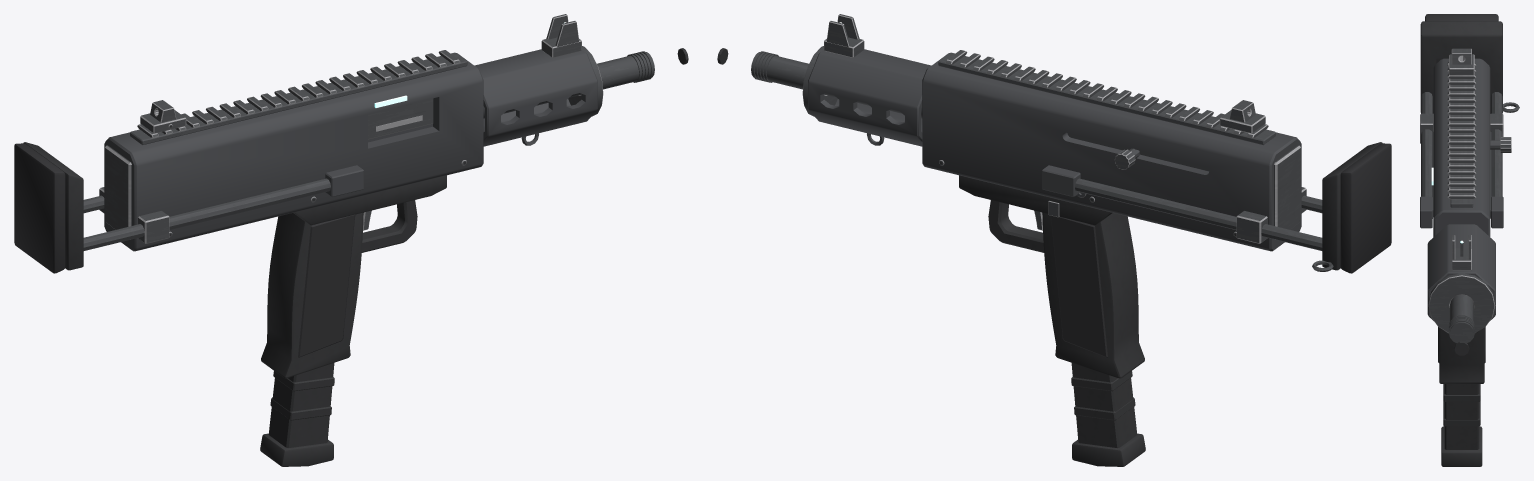
Rendered from w_uzi.glb.
3 renders of one model, left to right at view 1: azimuth 30°, elevation 25°; view 2: azimuth 150°, elevation 25°; view 3: azimuth 270°, elevation 25°, orthographic. The views are drawn at different scales.
Parts seen in each view (by area): view 1: W_uzi; view 2: W_uzi; view 3: W_uzi.
Part boxes in pixels (left/top/right/bottom): W_uzi: left=14, top=14, right=688, bottom=466; W_uzi: left=717, top=14, right=1391, bottom=466; W_uzi: left=1420, top=14, right=1519, bottom=466.
Bounding box in the file's own units: 0.4749 × 0.2695 × 0.0704.
6 materials, 3 textured.
